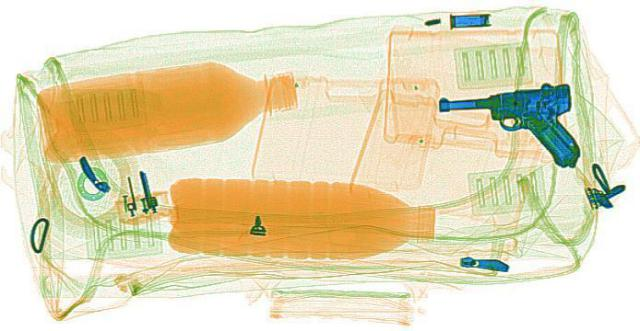Gun: (429, 80, 601, 175)
